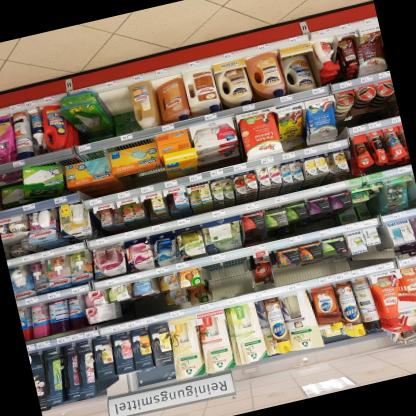empty_space: (202, 254, 250, 296), (103, 84, 132, 116)
